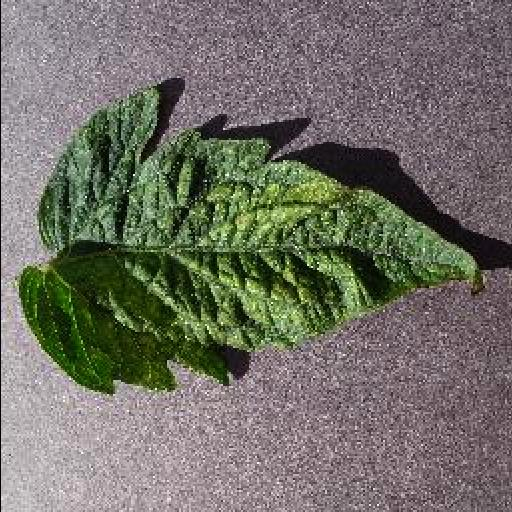disease_tomato: (17, 86, 483, 394)
